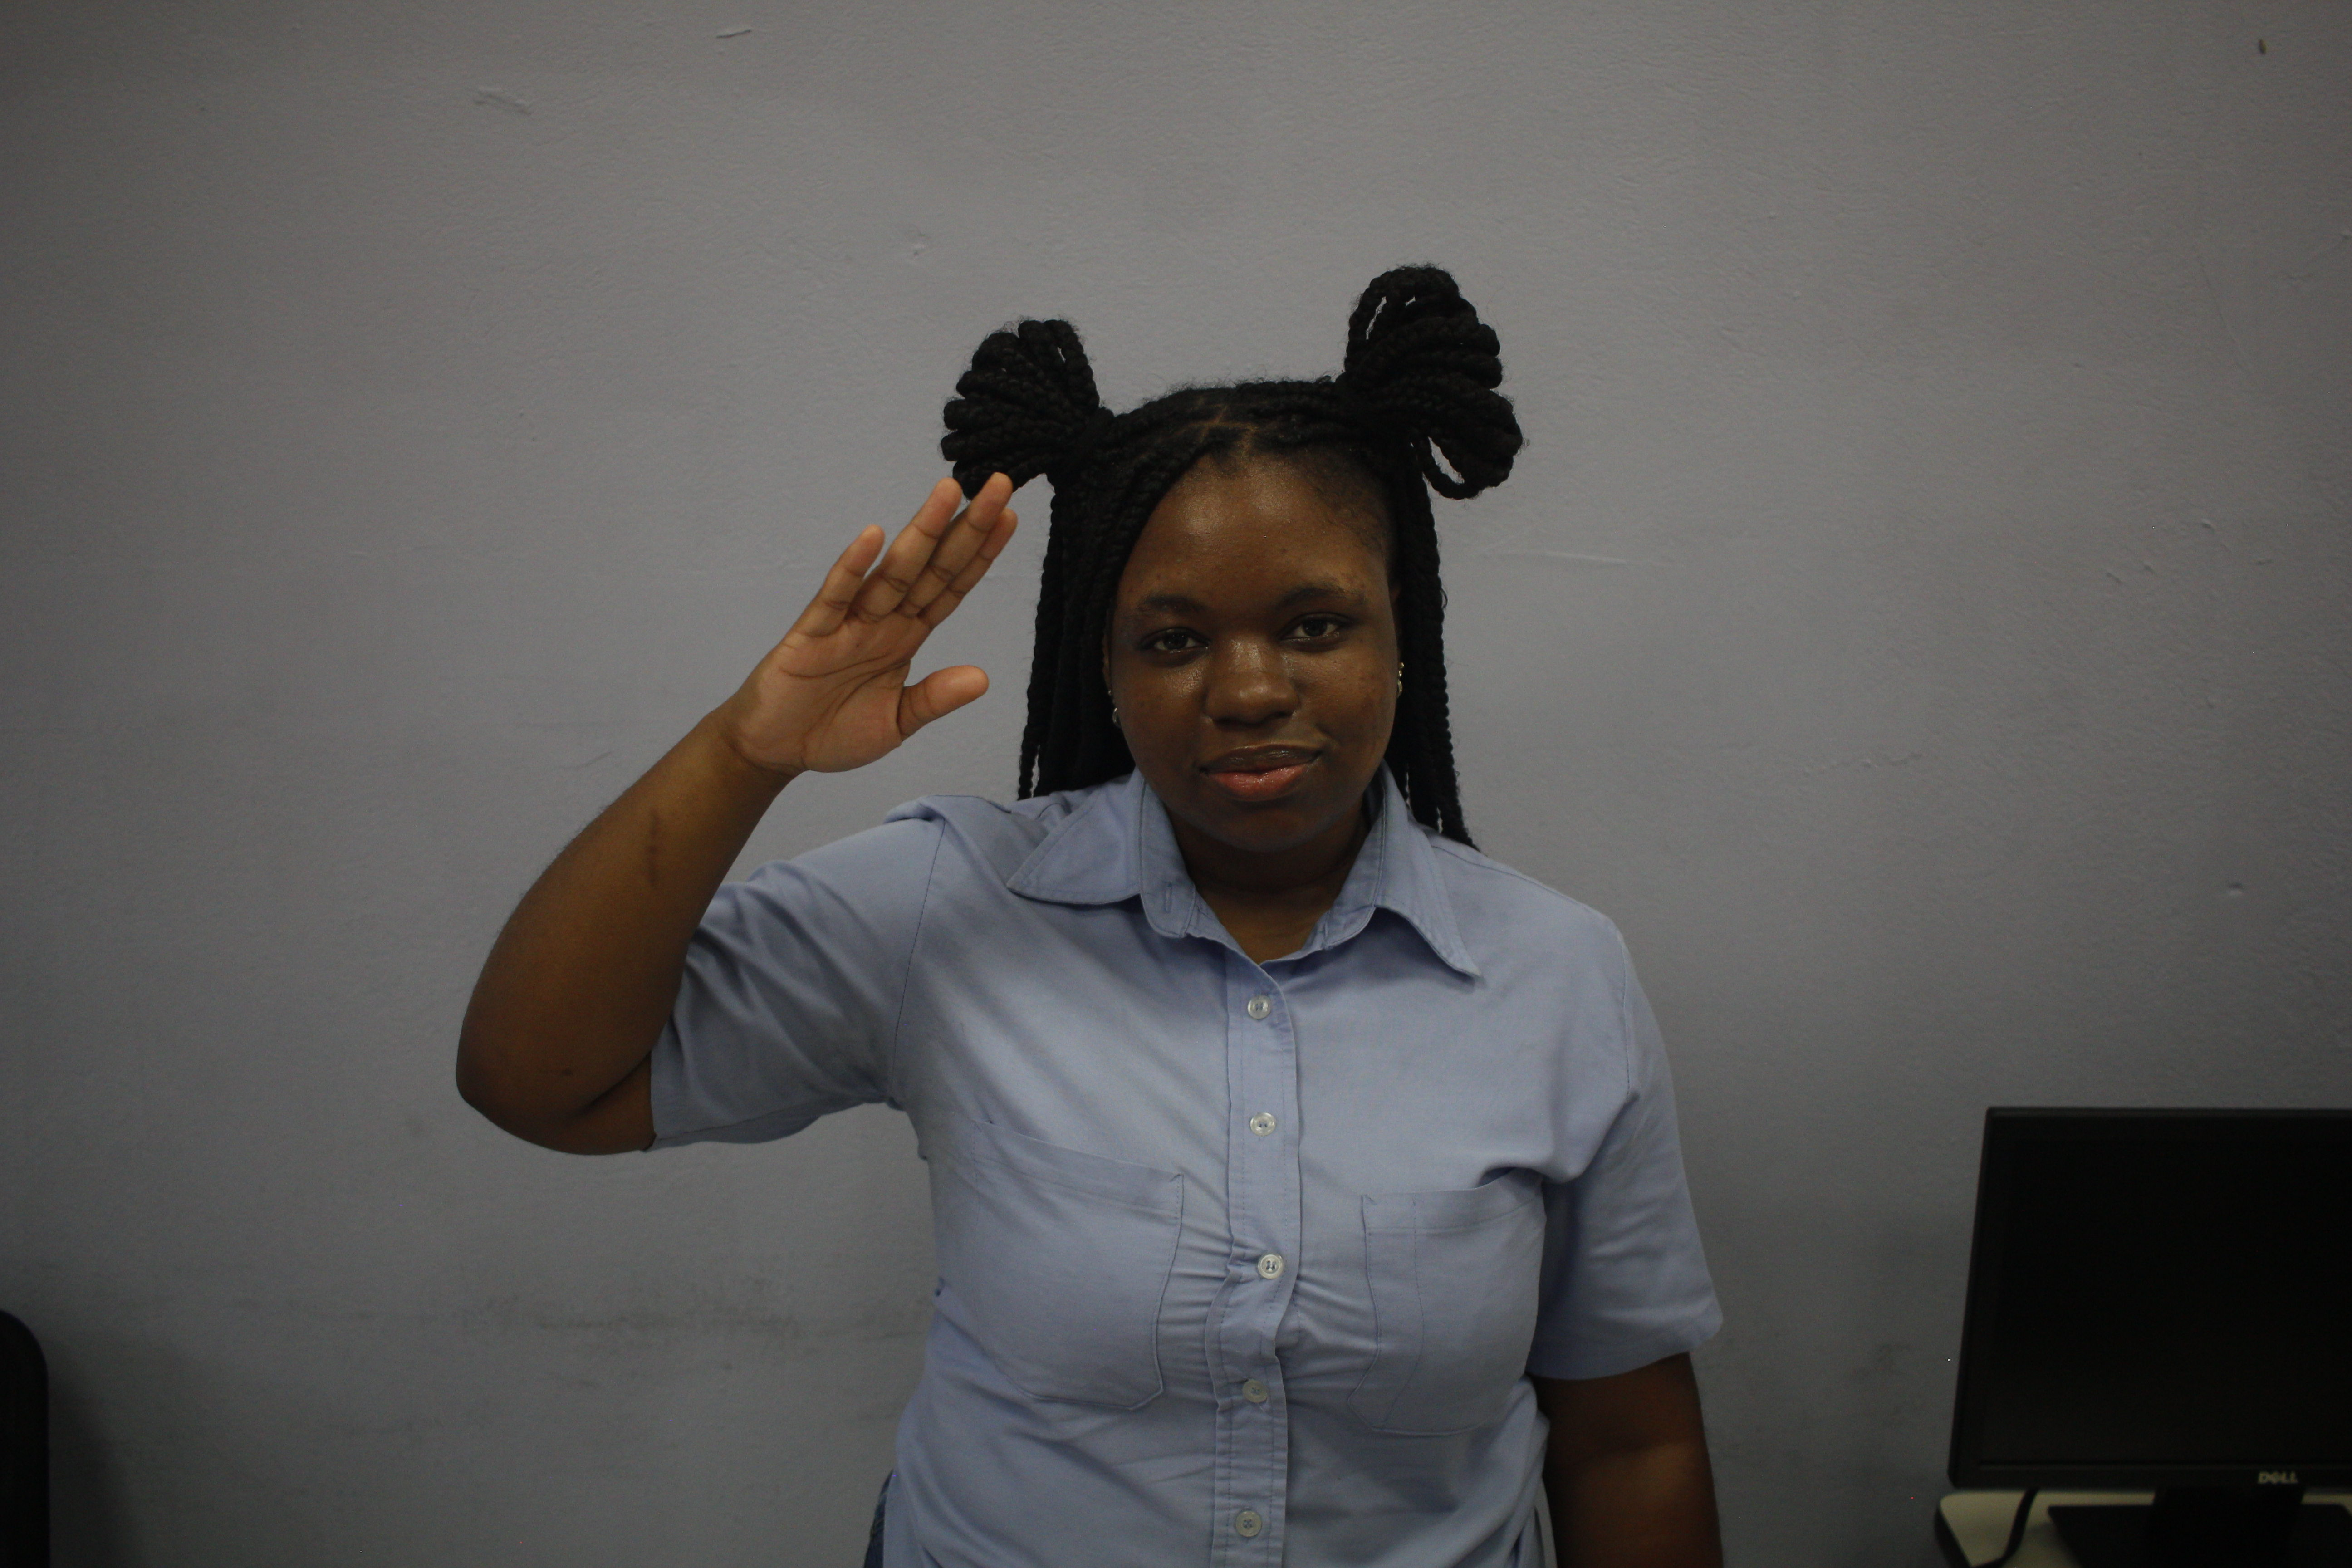hi: (731, 457, 1027, 784)
